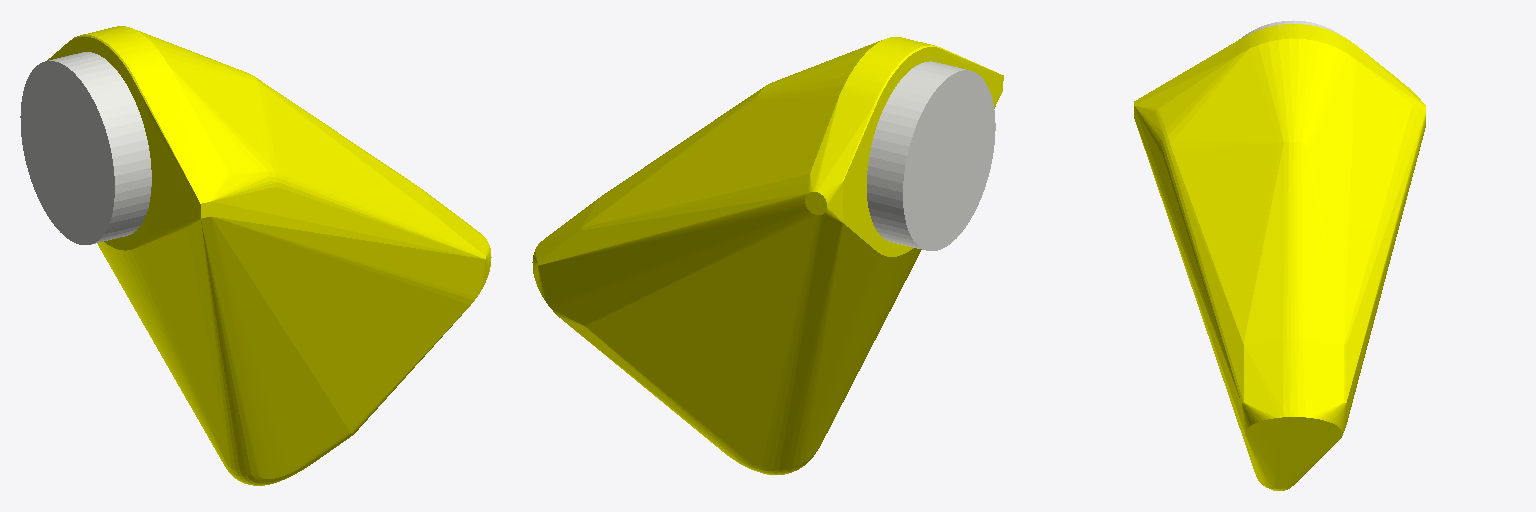
URDF robot description (abb_irb6700_200_260):
<?xml version="1.0" ?>
<!-- =================================================================================== -->
<!-- |    This document was autogenerated by xacro from [local-path]/crs_ws_fanuc/install/abb_irb6700_support/share/abb_irb6700_support/urdf/irb6700_200_260.xacro | -->
<!-- |    EDITING THIS FILE BY HAND IS NOT RECOMMENDED                                 | -->
<!-- =================================================================================== -->
<robot name="abb_irb6700_200_260">
  <!-- Conversion were obtained from http://www.e-paint.co.uk/Lab_values.asp
       unless otherwise stated. -->
  <!-- link list -->
  <link name="world"/>
  <joint name="world_base_link" type="fixed">
    <parent link="world"/>
    <child link="base_link"/>
    <origin rpy="0 0 0" xyz="-2.5 0 0"/>
  </joint>
  <link name="base_link">
    <visual>
      <origin rpy="0 0 0" xyz="0 0 0"/>
      <geometry>
        <mesh filename="package://abb_irb6700_support/meshes/irb6700/visual/base_link.stl"/>
      </geometry>
      <material name="">
        <color rgba="0.9254902 0.9254902 0.9058824 1"/>
      </material>
    </visual>
    <collision>
      <origin rpy="0 0 0" xyz="0 0 0"/>
      <geometry>
        <mesh filename="package://abb_irb6700_support/meshes/irb6700/collision/base_link.stl"/>
      </geometry>
      <material name="">
        <color rgba="1 1 0 1"/>
      </material>
    </collision>
  </link>
  <link name="link_1">
    <visual>
      <origin rpy="0 0 0" xyz="0 0 0"/>
      <geometry>
        <mesh filename="package://abb_irb6700_support/meshes/irb6700/visual/link_1.stl"/>
      </geometry>
      <material name="">
        <color rgba="0.9254902 0.9254902 0.9058824 1"/>
      </material>
    </visual>
    <collision>
      <origin rpy="0 0 0" xyz="0 0 0"/>
      <geometry>
        <mesh filename="package://abb_irb6700_support/meshes/irb6700/collision/link_1.stl"/>
      </geometry>
      <material name="">
        <color rgba="1 1 0 1"/>
      </material>
    </collision>
  </link>
  <link name="cylinder">
    <visual>
      <origin rpy="0 0 0" xyz="0 0 0"/>
      <geometry>
        <mesh filename="package://abb_irb6700_support/meshes/irb6700/visual/cylinder.stl"/>
      </geometry>
      <material name="">
        <color rgba="0.9254902 0.9254902 0.9058824 1"/>
      </material>
    </visual>
    <collision>
      <origin rpy="0 0 0" xyz="0 0 0"/>
      <geometry>
        <mesh filename="package://abb_irb6700_support/meshes/irb6700/collision/cylinder.stl"/>
      </geometry>
      <material name="">
        <color rgba="1 1 0 1"/>
      </material>
    </collision>
  </link>
  <link name="piston">
    <visual>
      <origin rpy="0 0 0" xyz="0 0 0"/>
      <geometry>
        <mesh filename="package://abb_irb6700_support/meshes/irb6700/visual/piston.stl"/>
      </geometry>
      <material name="">
        <color rgba="0.9254902 0.9254902 0.9058824 1"/>
      </material>
    </visual>
    <collision>
      <origin rpy="0 0 0" xyz="0 0 0"/>
      <geometry>
        <mesh filename="package://abb_irb6700_support/meshes/irb6700/collision/piston.stl"/>
      </geometry>
      <material name="">
        <color rgba="1 1 0 1"/>
      </material>
    </collision>
  </link>
  <link name="link_2">
    <visual>
      <origin rpy="0 0 0" xyz="0 0 0"/>
      <geometry>
        <mesh filename="package://abb_irb6700_support/meshes/irb6700_200_260/visual/link_2.stl"/>
      </geometry>
      <material name="">
        <color rgba="0.9254902 0.9254902 0.9058824 1"/>
      </material>
    </visual>
    <collision>
      <origin rpy="0 0 0" xyz="0 0 0"/>
      <geometry>
        <mesh filename="package://abb_irb6700_support/meshes/irb6700_200_260/collision/link_2.stl"/>
      </geometry>
      <material name="">
        <color rgba="1 1 0 1"/>
      </material>
    </collision>
  </link>
  <link name="link_3">
    <visual>
      <origin rpy="0 0 0" xyz="0 0 0"/>
      <geometry>
        <mesh filename="package://abb_irb6700_support/meshes/irb6700_200_260/visual/link_3.stl"/>
      </geometry>
      <material name="">
        <color rgba="0.9254902 0.9254902 0.9058824 1"/>
      </material>
    </visual>
    <collision>
      <origin rpy="0 0 0" xyz="0 0 0"/>
      <geometry>
        <mesh filename="package://abb_irb6700_support/meshes/irb6700_200_260/collision/link_3.stl"/>
      </geometry>
      <material name="">
        <color rgba="1 1 0 1"/>
      </material>
    </collision>
  </link>
  <link name="link_4">
    <visual>
      <origin rpy="0 0 0" xyz="0 0 0"/>
      <geometry>
        <mesh filename="package://abb_irb6700_support/meshes/irb6700_200_260/visual/link_4.stl"/>
      </geometry>
      <material name="">
        <color rgba="0.9254902 0.9254902 0.9058824 1"/>
      </material>
    </visual>
    <collision>
      <origin rpy="0 0 0" xyz="0 0 0"/>
      <geometry>
        <mesh filename="package://abb_irb6700_support/meshes/irb6700_200_260/collision/link_4.stl"/>
      </geometry>
      <material name="">
        <color rgba="1 1 0 1"/>
      </material>
    </collision>
  </link>
  <link name="link_5">
    <visual>
      <origin rpy="0 0 0" xyz="0 0 0"/>
      <geometry>
        <mesh filename="package://abb_irb6700_support/meshes/irb6700/visual/link_5.stl"/>
      </geometry>
      <material name="">
        <color rgba="0.9254902 0.9254902 0.9058824 1"/>
      </material>
    </visual>
    <collision>
      <origin rpy="0 0 0" xyz="0 0 0"/>
      <geometry>
        <mesh filename="package://abb_irb6700_support/meshes/irb6700/collision/link_5.stl"/>
      </geometry>
      <material name="">
        <color rgba="1 1 0 1"/>
      </material>
    </collision>
  </link>
  <link name="link_6">
    <visual>
      <origin rpy="0 0 0" xyz="0 0 0"/>
      <geometry>
        <mesh filename="package://abb_irb6700_support/meshes/irb6700/visual/link_6.stl"/>
      </geometry>
      <material name="">
        <color rgba="0.9254902 0.9254902 0.9058824 1"/>
      </material>
    </visual>
    <collision>
      <origin rpy="0 0 0" xyz="0 0 0"/>
      <geometry>
        <mesh filename="package://abb_irb6700_support/meshes/irb6700/collision/link_6.stl"/>
      </geometry>
      <material name="">
        <color rgba="1 1 0 1"/>
      </material>
    </collision>
  </link>
  <!--add e-e-->
  <link name="ef">
    <visual>
      <origin rpy="0 0 0" xyz="0 0 0"/>
      <geometry>
        <mesh filename="package://fanuc_r2000ic_support/meshes/r2000ic165f/visual/ef.stl"/>
      </geometry>
      <material name="">
        <color rgba="1 1 0 1"/>
      </material>
    </visual>
    <collision>
      <origin rpy="0 0 0" xyz="0 0 0"/>
      <geometry>
        <mesh filename="package://fanuc_r2000ic_support/meshes/r2000ic165f/collision/ef.stl"/>
      </geometry>
    </collision>
    <inertial>
      <mass value="3.0"/>
      <origin rpy="0 0 0" xyz="0.0 0.0 0.0"/>
      <inertia ixx="0" ixy="0" ixz="0" iyy="0" iyz="0" izz="0"/>
    </inertial>
  </link>
  <joint name="joint_1" type="revolute">
    <origin rpy="0 0 0" xyz="0 0 0.78"/>
    <parent link="base_link"/>
    <child link="link_1"/>
    <axis xyz="0 0 1"/>
    <limit effort="0" lower="-2.9670597283903604" upper="2.9670597283903604" velocity="1.9198621771937625"/>
  </joint>
  <joint name="joint_2" type="revolute">
    <origin rpy="0 0 0" xyz="0.32 0 0"/>
    <parent link="link_1"/>
    <child link="link_2"/>
    <axis xyz="0 1 0"/>
    <limit effort="0" lower="-1.1344640137963142" upper="1.4835298641951802" velocity="1.9198621771937625"/>
  </joint>
  <joint name="joint_3" type="revolute">
    <origin rpy="0 0 0" xyz="0 0 1.125"/>
    <parent link="link_2"/>
    <child link="link_3"/>
    <axis xyz="0 1 0"/>
    <limit effort="0" lower="-3.141592653589793" upper="1.2217304763960306" velocity="1.9198621771937625"/>
  </joint>
  <joint name="joint_4" type="revolute">
    <origin rpy="0 0 0" xyz="0 0 0.2"/>
    <parent link="link_3"/>
    <child link="link_4"/>
    <axis xyz="1 0 0"/>
    <limit effort="0" lower="-5.235987755982989" upper="5.235987755982989" velocity="3.3161255787892263"/>
  </joint>
  <joint name="joint_5" type="revolute">
    <origin rpy="0 0 0" xyz="1.1425 0 0"/>
    <parent link="link_4"/>
    <child link="link_5"/>
    <axis xyz="0 1 0"/>
    <limit effort="0" lower="-2.2689280275926285" upper="2.2689280275926285" velocity="2.6179938779914944"/>
  </joint>
  <joint name="joint_6" type="revolute">
    <origin rpy="0 0 0" xyz="0.2 0 0"/>
    <parent link="link_5"/>
    <child link="link_6"/>
    <axis xyz="1 0 0"/>
    <limit effort="0" lower="-6.283185307179586" upper="6.283185307179586" velocity="3.6651914291880923"/>
  </joint>
  <joint name="cylinder_joint" type="revolute">
    <origin rpy="0 0 0" xyz="-0.349 -0.194 -0.142"/>
    <parent link="link_1"/>
    <child link="cylinder"/>
    <axis xyz="0 1 0"/>
    <mimic joint="joint_2" multiplier="-0.25"/>
    <limit effort="0" lower="-0.28361600344907856" upper="0.37088246604879505" velocity="100"/>
  </joint>
  <joint name="piston_joint" type="prismatic">
    <origin rpy="0.20897 0 -1.5707963267948966" xyz="0 0 0"/>
    <parent link="cylinder"/>
    <child link="piston"/>
    <axis xyz="0 1 0"/>
    <mimic joint="joint_2" multiplier="0.15"/>
    <limit effort="0" lower="-0.25" upper="0.25" velocity="100"/>
  </joint>
  <!-- ROS-Industrial 'base' frame: base_link to ABB World Coordinates transform -->
  <link name="base"/>
  <joint name="base_link-base" type="fixed">
    <origin rpy="0 0 0" xyz="0 0 0"/>
    <parent link="base_link"/>
    <child link="base"/>
  </joint>
  <!-- ROS-Industrial 'flange' frame: attachment point for EEF models -->
  <link name="flange"/>
  <joint name="joint_6-flange" type="fixed">
    <origin rpy="0 0 0" xyz="0 0 0"/>
    <parent link="link_6"/>
    <child link="flange"/>
  </joint>
  <!-- ROS-Industrial 'tool0' frame: all-zeros tool frame -->
  <link name="tool0"/>
  <joint name="link_6-tool0" type="fixed">
    <origin rpy="0 1.5707963267948966 0" xyz="0 0 0"/>
    <parent link="flange"/>
    <child link="tool0"/>
  </joint>
  <joint name="flange-ef" type="fixed">
    <origin rpy="3.141592653589793 -3.141592653589793 0" xyz="0 0 0"/>
    <parent link="tool0"/>
    <child link="ef"/>
  </joint>
  <link name="tcp"/>
  <joint name="tcp_ef" type="fixed">
    <origin rpy="5.53832e-13 -0.785398 0" xyz="-0.204433413 -7.32E-04 0.333181177"/>
    <parent link="ef"/>
    <child link="tcp"/>
  </joint>
  <!-- Transmission part -->
  <transmission name="trans_joint_1">
    <type>transmission_interface/SimpleTransmission</type>
    <joint name="joint_1">
      <hardwareInterface>hardware_interface/EffortJointInterface</hardwareInterface>
    </joint>
    <actuator name="joint_1_motor">
      <hardwareInterface>hardware_interface/EffortJointInterface</hardwareInterface>
      <mechanicalReduction>1</mechanicalReduction>
    </actuator>
  </transmission>
  <transmission name="trans_joint_2">
    <type>transmission_interface/SimpleTransmission</type>
    <joint name="joint_2">
      <hardwareInterface>hardware_interface/EffortJointInterface</hardwareInterface>
    </joint>
    <actuator name="joint_2_motor">
      <hardwareInterface>hardware_interface/EffortJointInterface</hardwareInterface>
      <mechanicalReduction>1</mechanicalReduction>
    </actuator>
  </transmission>
  <transmission name="trans_joint_3">
    <type>transmission_interface/SimpleTransmission</type>
    <joint name="joint_3">
      <hardwareInterface>hardware_interface/EffortJointInterface</hardwareInterface>
    </joint>
    <actuator name="joint_3_motor">
      <hardwareInterface>hardware_interface/EffortJointInterface</hardwareInterface>
      <mechanicalReduction>1</mechanicalReduction>
    </actuator>
  </transmission>
  <transmission name="trans_joint_4">
    <type>transmission_interface/SimpleTransmission</type>
    <joint name="joint_4">
      <hardwareInterface>hardware_interface/EffortJointInterface</hardwareInterface>
    </joint>
    <actuator name="joint_4_motor">
      <hardwareInterface>hardware_interface/EffortJointInterface</hardwareInterface>
      <mechanicalReduction>1</mechanicalReduction>
    </actuator>
  </transmission>
  <transmission name="trans_joint_5">
    <type>transmission_interface/SimpleTransmission</type>
    <joint name="joint_5">
      <hardwareInterface>hardware_interface/EffortJointInterface</hardwareInterface>
    </joint>
    <actuator name="joint_5_motor">
      <hardwareInterface>hardware_interface/EffortJointInterface</hardwareInterface>
      <mechanicalReduction>1</mechanicalReduction>
    </actuator>
  </transmission>
  <transmission name="trans_joint_6">
    <type>transmission_interface/SimpleTransmission</type>
    <joint name="joint_6">
      <hardwareInterface>hardware_interface/EffortJointInterface</hardwareInterface>
    </joint>
    <actuator name="joint_6_motor">
      <hardwareInterface>hardware_interface/EffortJointInterface</hardwareInterface>
      <mechanicalReduction>1</mechanicalReduction>
    </actuator>
  </transmission>
  <gazebo reference="base_link">
    <selfCollide>true</selfCollide>
  </gazebo>
  <gazebo reference="link_1">
    <selfCollide>true</selfCollide>
  </gazebo>
  <gazebo reference="link_2">
    <selfCollide>true</selfCollide>
  </gazebo>
  <gazebo reference="link_3">
    <selfCollide>true</selfCollide>
  </gazebo>
  <gazebo reference="link_4">
    <selfCollide>true</selfCollide>
  </gazebo>
  <gazebo reference="link_5">
    <selfCollide>true</selfCollide>
  </gazebo>
  <gazebo reference="link_6">
    <selfCollide>true</selfCollide>
  </gazebo>
  <gazebo reference="tool0">
    <selfCollide>true</selfCollide>
  </gazebo>
  <gazebo reference="flange">
    <selfCollide>true</selfCollide>
  </gazebo>
  <gazebo reference="gazebo_camera_link">
    <sensor name="sensor_name" type="depth">
      <!-- Set always_on only sensor, not on plugin -->
      <always_on>1</always_on>
      <!-- Set update_rate only sensor, not on plugin -->
      <update_rate>5</update_rate>
      <camera name="camera_name">
        <image>
          <width>320</width>
          <height>200</height>
        </image>
        <distortion>
          <k1>-0.0</k1>
          <k2>0.0</k2>
          <k3>0.0</k3>
          <p1>-0.0</p1>
          <p2>-0.0</p2>
          <center>0.5 0.5</center>
        </distortion>
      </camera>
      <plugin filename="libgazebo_ros_camera.so" name="plugin_name">
        <!-- Change namespace, camera name and topics so:
                 * Raw images are published to: /custom_ns/custom_camera/custom_image
                 * Depth images are published to: /custom_ns/custom_camera/custom_image_depth
                 * Raw image camera info is published to: /custom_ns/custom_camera/custom_info_raw
                 * Depth image camera info is published to: /custom_ns/custom_camera/custom_info_depth
                 * Point cloud is published to: /custom_ns/custom_camera/custom_points
            -->
        <ros>
          <namespace>custom_ns</namespace>
          <argument>camera/image_raw:=camera/custom_image</argument>
          <argument>camera/image_depth:=camera/custom_image_depth</argument>
          <argument>camera/camera_info:=camera/custom_info_raw</argument>
          <argument>camera/camera_info_depth:=camera/custom_info_depth</argument>
          <argument>camera/points:=camera/pointcloud</argument>
        </ros>
        <!-- Set camera name. If empty, defaults to sensor name (i.e. "sensor_name") -->
        <camera_name>camera</camera_name>
        <frame_name>camera_link_optical</frame_name>
        <!-- Set TF frame name. If empty, defaults to link name (i.e. "link_name") -->
        <hack_baseline>0.07</hack_baseline>
        <!-- No need to repeat distortion parameters or to set autoDistortion -->
        <min_depth>0.1</min_depth>
      </plugin>
    </sensor>
  </gazebo>
  <gazebo>
    <plugin filename="libgazebo_ros_joint_state_publisher.so" name="gazebo_ros_joint_state_publisher">
      <ros>
        <namespace>/test</namespace>
        <argument>joint_states:=joint_states</argument>
      </ros>
      <update_rate>50</update_rate>
      <joint_name>joint_1</joint_name>
      <joint_name>joint_2</joint_name>
      <joint_name>joint_3</joint_name>
      <joint_name>joint_4</joint_name>
      <joint_name>joint_5</joint_name>
      <joint_name>joint_6</joint_name>
    </plugin>
    <plugin filename="libcrs_gazebo_plugins_joint_pose_trajectory.so" name="crs_gazebo_plugins_joint_pose_trajectory">
      <ros>
        <namespace>sim</namespace>
        <argument>follow_joint_trajectory:=follow_joint_trajectory</argument>
      </ros>
      <update_rate>20</update_rate>
    </plugin>
  </gazebo>
</robot>

--- Render facts (derived) ---
The picture shows the robot from 3 angles, left to right: view 1: azimuth 30°, elevation 25°; view 2: azimuth 150°, elevation 25°; view 3: azimuth 270°, elevation 25°; orthographic projection.
Robot: abb_irb6700_200_260 — 15 links, 14 joints (7 revolute, 1 prismatic, 6 fixed); root link world; default pose: all joints at 0.
Visible links, largest first — view 1: ef, link_6; view 2: ef, link_6; view 3: ef.
Link boxes in pixels (x1,y1,x2,y2): ef: (47, 26, 491, 485); link_6: (20, 52, 151, 244); ef: (532, 37, 1003, 474); link_6: (867, 61, 995, 250); ef: (1134, 24, 1425, 490).
Size in the robot's own frame: 0.4045 by 0.2921 by 0.4395 metres.
Meshes: 10 distinct files referenced, 2 mesh visuals loaded (2 binary STL); not drawn: 8 (reference not matched to a file when rendering).